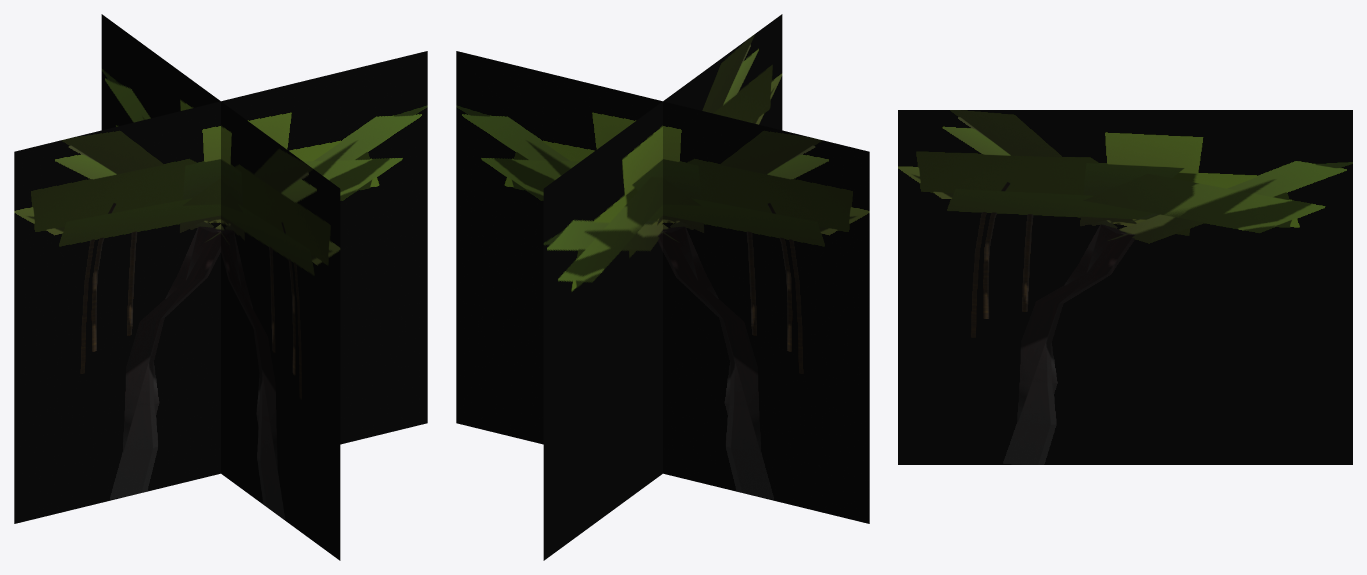
File: jungle_palm_b1_card.glb
The picture shows the model from 3 angles, left to right: view 1: azimuth 30°, elevation 25°; view 2: azimuth 150°, elevation 25°; view 3: azimuth 270°, elevation 25°; orthographic projection. The views are drawn at different scales.
Parts seen in each view (by area): view 1: jungle_palm_b1_card; view 2: jungle_palm_b1_card; view 3: jungle_palm_b1_card.
Boxes of the visible parts, x1,y1,x2,y2 form: jungle_palm_b1_card: (14,14,427,560); jungle_palm_b1_card: (456,14,869,560); jungle_palm_b1_card: (898,110,1352,464).
Size of the model in its own units: 5.96 by 5.13 by 5.96.
1 material, 1 textured.
